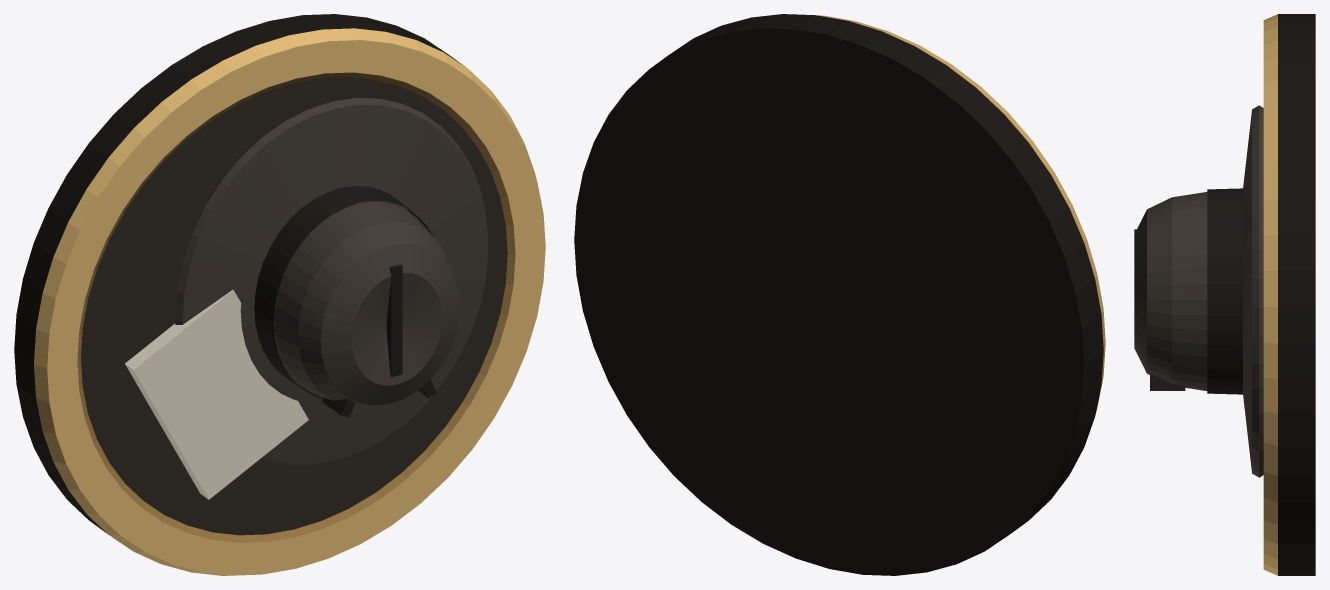
The model's file is caught-mark-r2.obj.
3 renders of one model, left to right at view 1: azimuth 30°, elevation 25°; view 2: azimuth 150°, elevation 25°; view 3: azimuth 270°, elevation 25°, orthographic. The views are drawn at different scales.
Visible parts, largest first — view 1: base_rim, base_top, hat_brim, hat_crown, newspaper, base_side, base_rim_inner, hat_band, hat_crease; view 2: base_side, base_rim; view 3: base_side, hat_crown, base_rim, hat_band, hat_brim, hat_pinch.
Part boxes in pixels (x1=…): base_rim: x1=34, y1=28, x2=545, y2=575; base_top: x1=81, y1=77, x2=507, y2=535; hat_brim: x1=175, y1=98, x2=488, y2=464; hat_crown: x1=274, y1=202, x2=460, y2=407; newspaper: x1=125, y1=290, x2=308, y2=499; base_side: x1=14, y1=14, x2=464, y2=533; base_rim_inner: x1=77, y1=72, x2=515, y2=542; hat_band: x1=254, y1=186, x2=433, y2=399; hat_crease: x1=386, y1=264, x2=402, y2=376; base_side: x1=574, y1=14, x2=1103, y2=575; base_rim: x1=817, y1=15, x2=1105, y2=413; base_side: x1=1278, y1=14, x2=1315, y2=575; hat_crown: x1=1134, y1=192, x2=1207, y2=390; base_rim: x1=1263, y1=14, x2=1277, y2=575; hat_band: x1=1207, y1=188, x2=1242, y2=394; hat_brim: x1=1243, y1=105, x2=1263, y2=477; hat_pinch: x1=1150, y1=373, x2=1185, y2=390.
Size of the model in its own units: 0.54 by 0.54 by 0.174.
